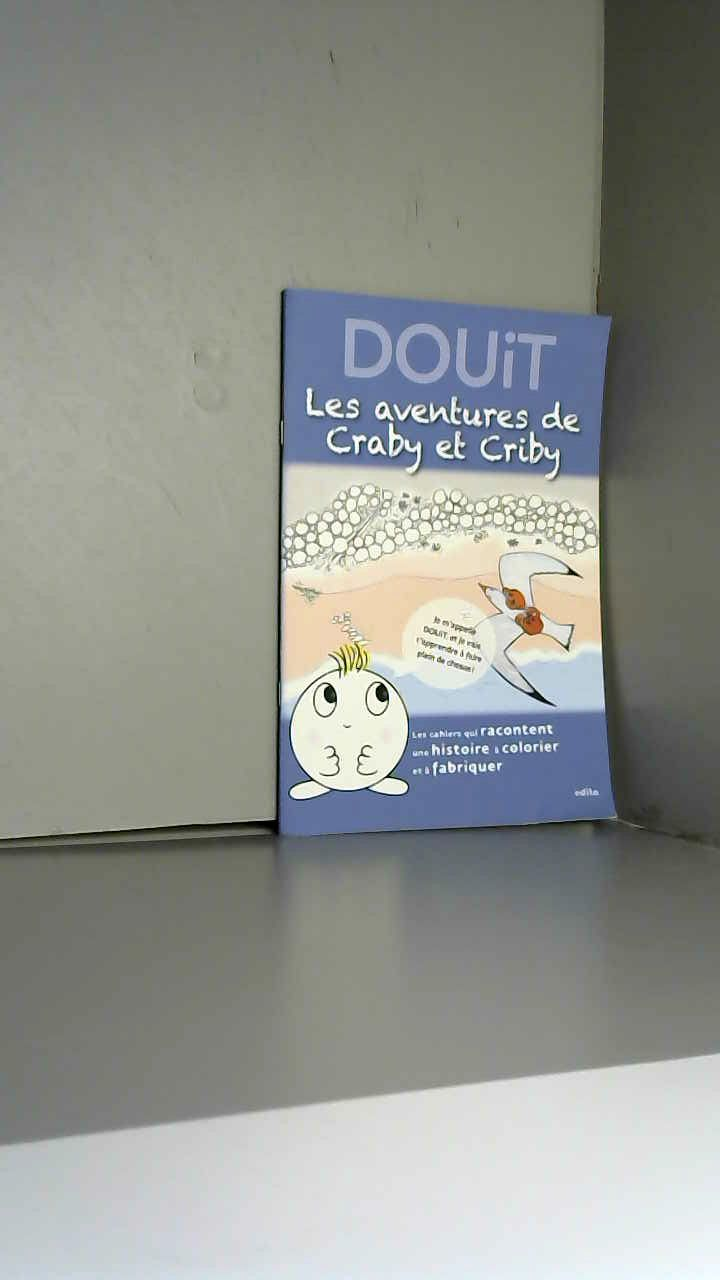book: (250, 260, 720, 859)
